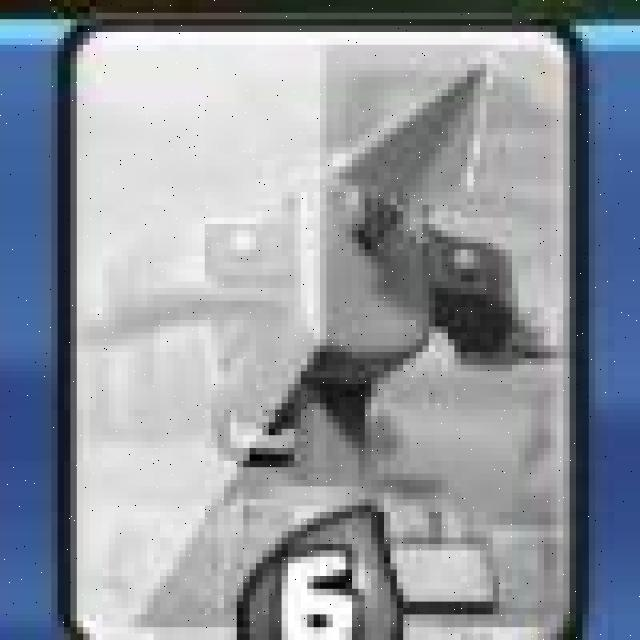X_Bow: (69, 21, 586, 640)
